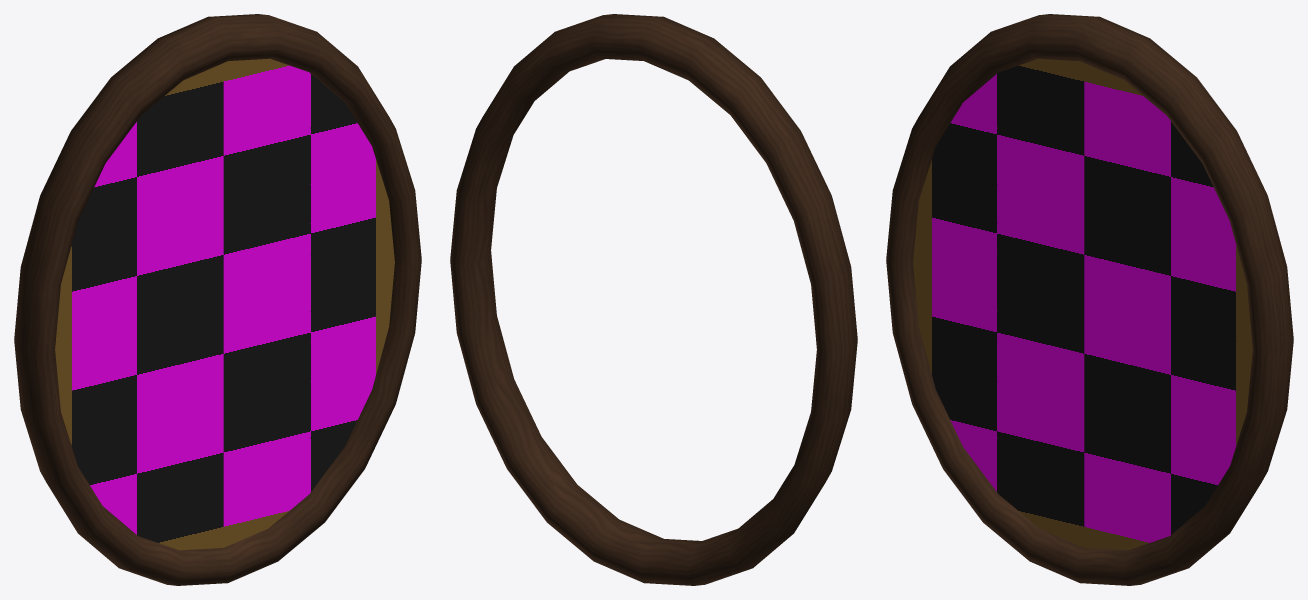
Rendered from ovalPortrait.glb.
The picture shows the model from 3 angles, left to right: view 1: azimuth 30°, elevation 25°; view 2: azimuth 150°, elevation 25°; view 3: azimuth 330°, elevation 25°; orthographic projection.
Parts seen in each view (by area): view 1: dyn_painting_variant, ovalPortrait; view 2: ovalPortrait; view 3: dyn_painting_variant, ovalPortrait.
Part boxes in pixels (x1=…): dyn_painting_variant: x1=55, y1=58, x2=394, y2=550; ovalPortrait: x1=14, y1=14, x2=421, y2=585; ovalPortrait: x1=450, y1=14, x2=857, y2=585; dyn_painting_variant: x1=913, y1=58, x2=1252, y2=550; ovalPortrait: x1=886, y1=14, x2=1293, y2=585.
Bounding box in the file's own units: 0.5131 × 0.6979 × 0.064.
Materials: 2 (2 with a texture image).
